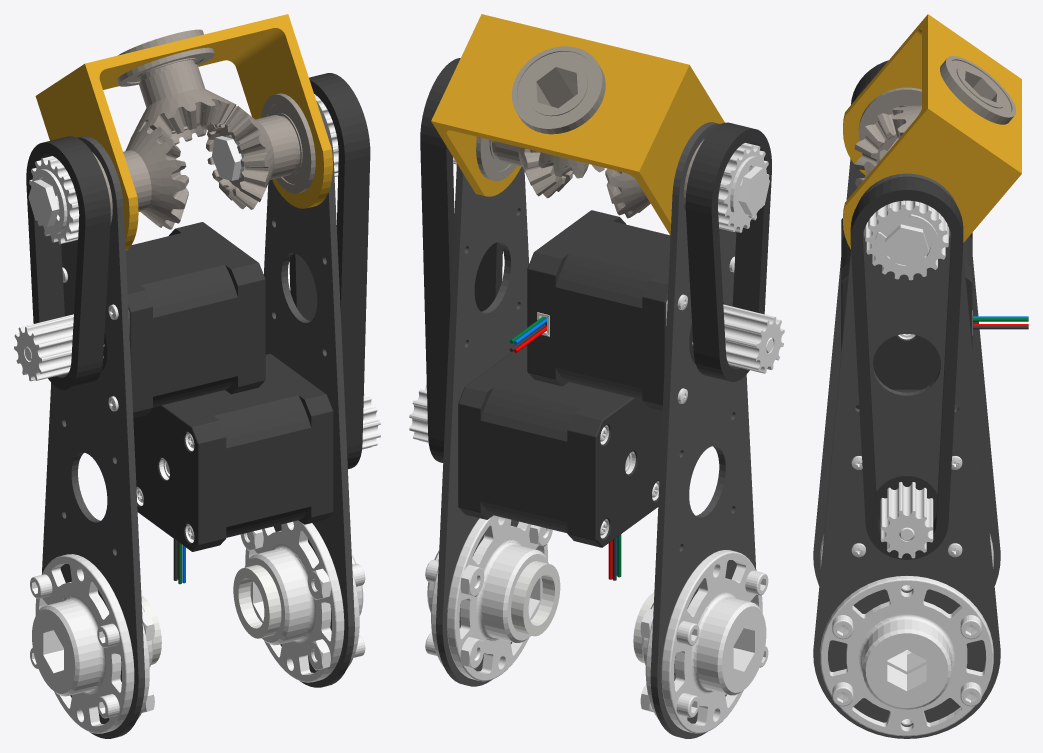
Rendered from TDJ-25-A-40000-WRIST-ASSEMBLY.glb.
The picture shows the model from 3 angles, left to right: view 1: azimuth 30°, elevation 25°; view 2: azimuth 150°, elevation 25°; view 3: azimuth 270°, elevation 25°; orthographic projection. The views are drawn at different scales.
Size of the model in its own units: 120 by 223 by 69.32.
